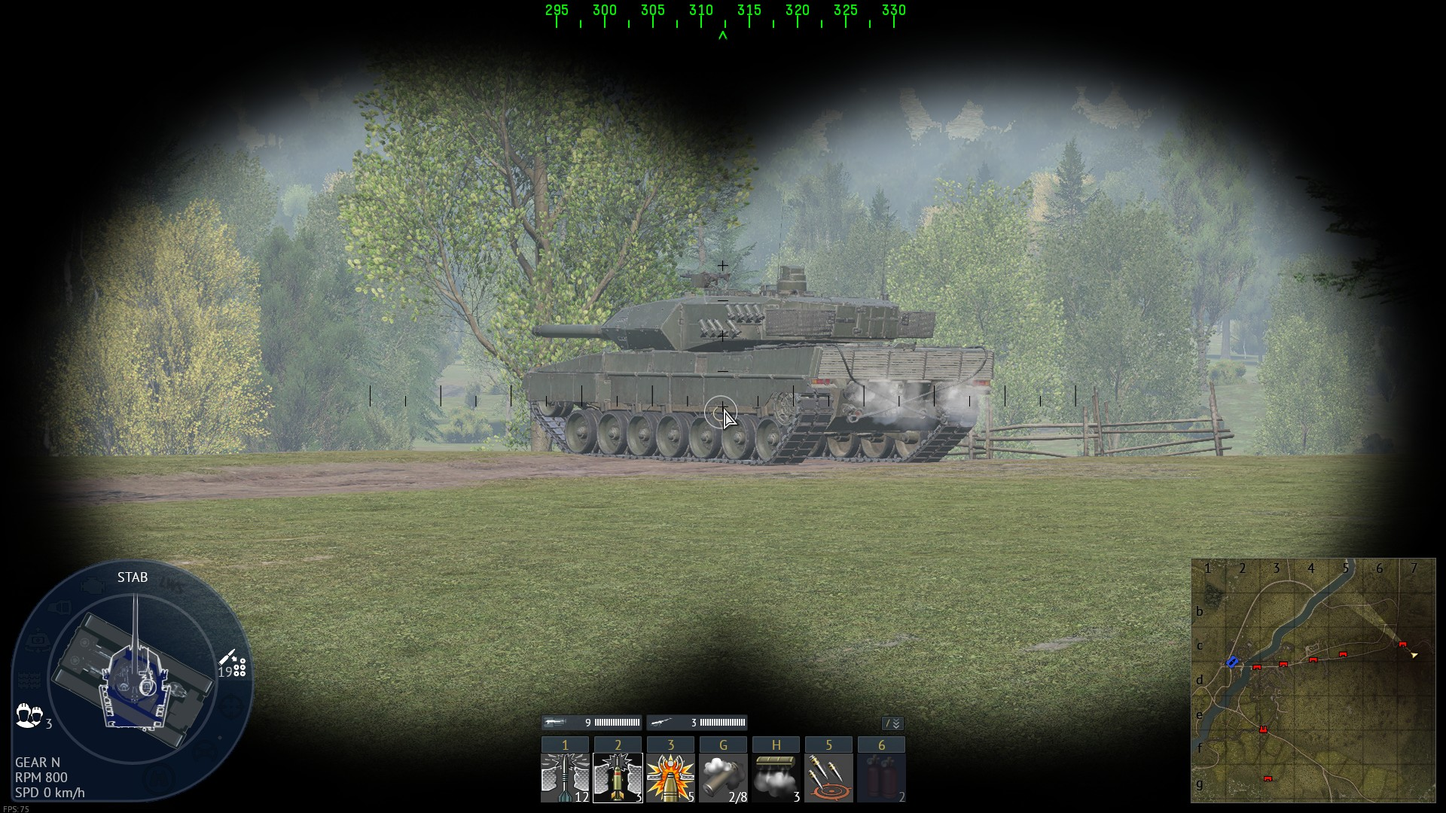leopard2: (520, 264, 995, 466)
